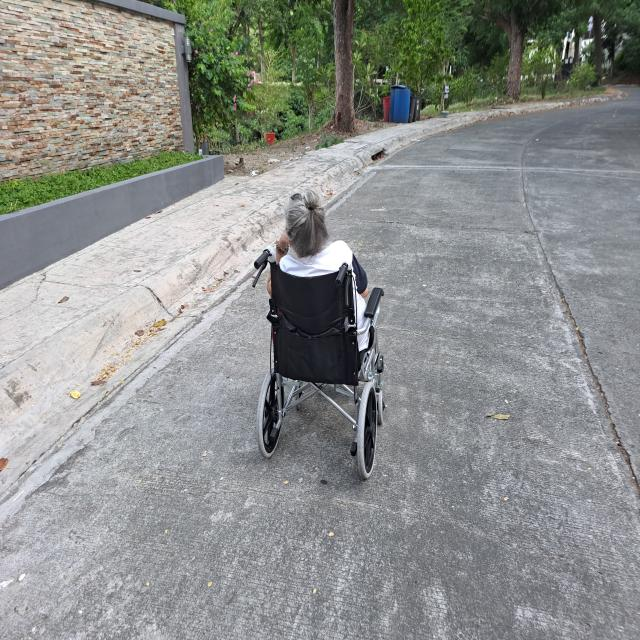wheelchairs: (248, 253, 395, 488)
